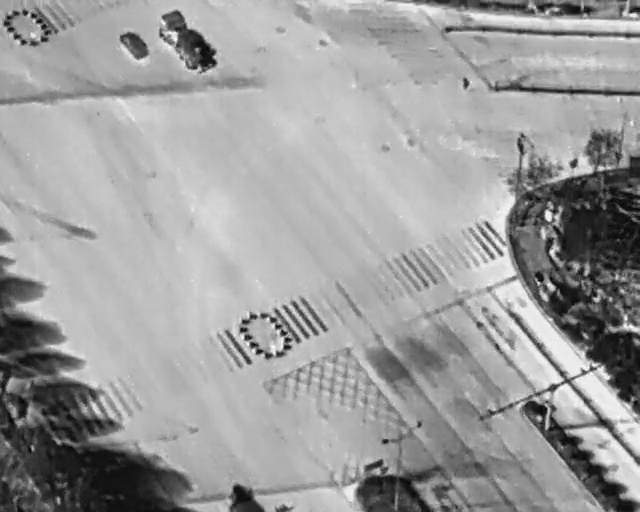Car: (153, 4, 223, 82), (117, 25, 153, 63)
